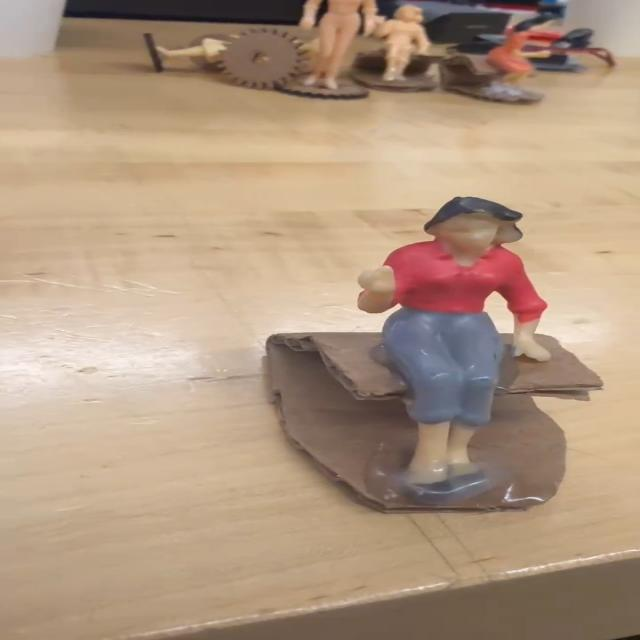Authorized: (322, 183, 581, 505)
